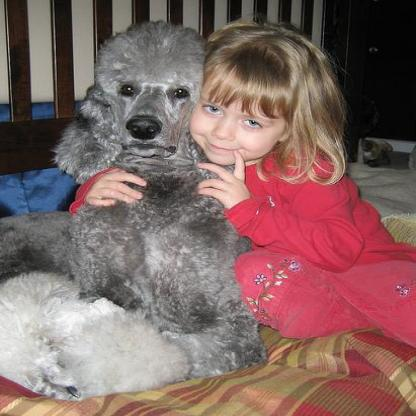standard_poodle: (0, 16, 268, 401)
